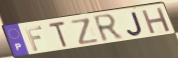F: (24, 25, 44, 52)
H: (140, 6, 173, 36)
J: (125, 11, 144, 37)
R: (91, 12, 125, 44)
T: (47, 20, 70, 49)
Z: (69, 17, 101, 46)
